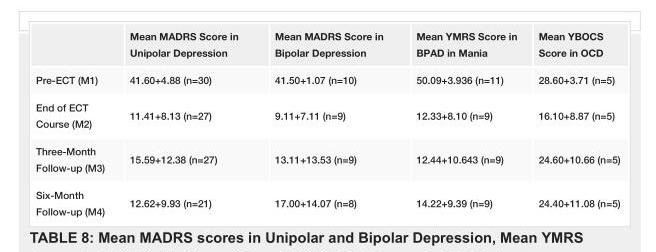table: (35, 34, 619, 215)
table column: (255, 34, 399, 215), (116, 34, 255, 215), (399, 34, 527, 215), (527, 34, 619, 215), (35, 34, 116, 215)
table column header: (35, 34, 619, 67)
table row: (35, 94, 619, 138), (35, 138, 619, 182), (35, 34, 619, 67), (35, 182, 619, 215), (35, 67, 619, 94)
